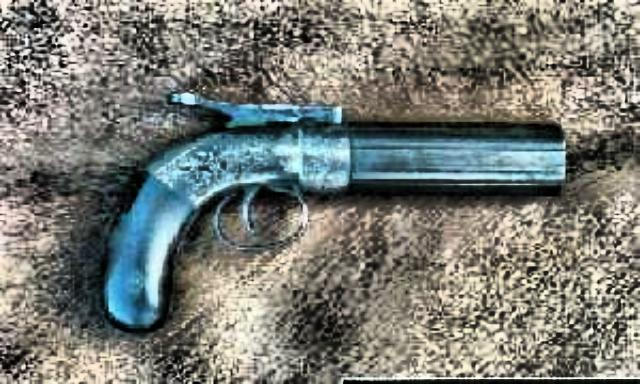pistol: (96, 84, 570, 322)
